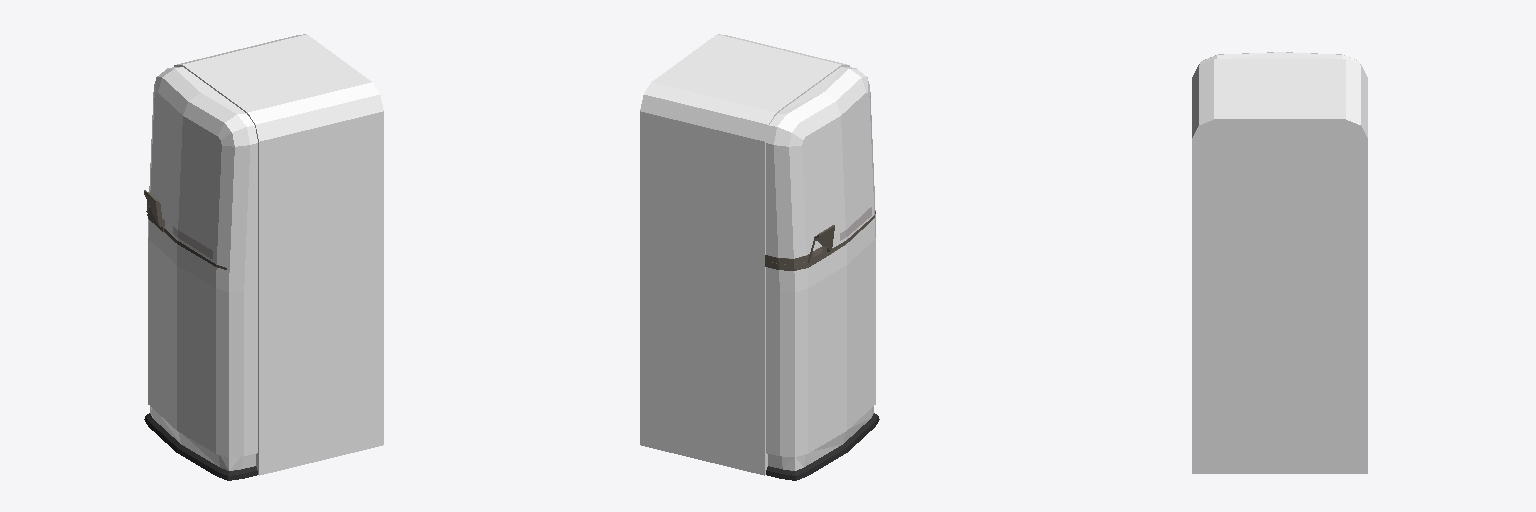
Rendered from 1953+Frigidaire+light.obj.
The picture shows the model from 3 angles: view 1: azimuth 30°, elevation 25°; view 2: azimuth 150°, elevation 25°; view 3: azimuth 270°, elevation 25°; orthographic projection.
Visible parts, largest first — view 1: Mesh1 Model; view 2: Mesh1 Model; view 3: Mesh1 Model.
Part boxes in pixels (x1,y1,x2,y2): Mesh1 Model: (144, 34, 383, 480); Mesh1 Model: (640, 34, 879, 480); Mesh1 Model: (1192, 52, 1367, 473).
Bounding box in the file's own units: 29.51 × 59.75 × 27.